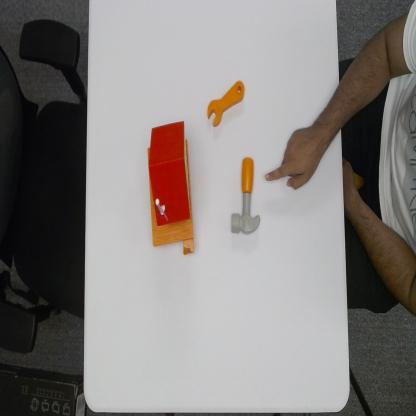Arm: (314, 88, 340, 150)
Hammer: (230, 156, 261, 236)
Hand: (264, 125, 320, 194)
House: (146, 119, 196, 260)
Screwdriver: (206, 77, 246, 129)
